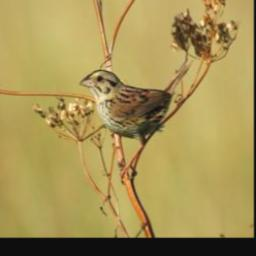Sparrow: (77, 57, 196, 185)
